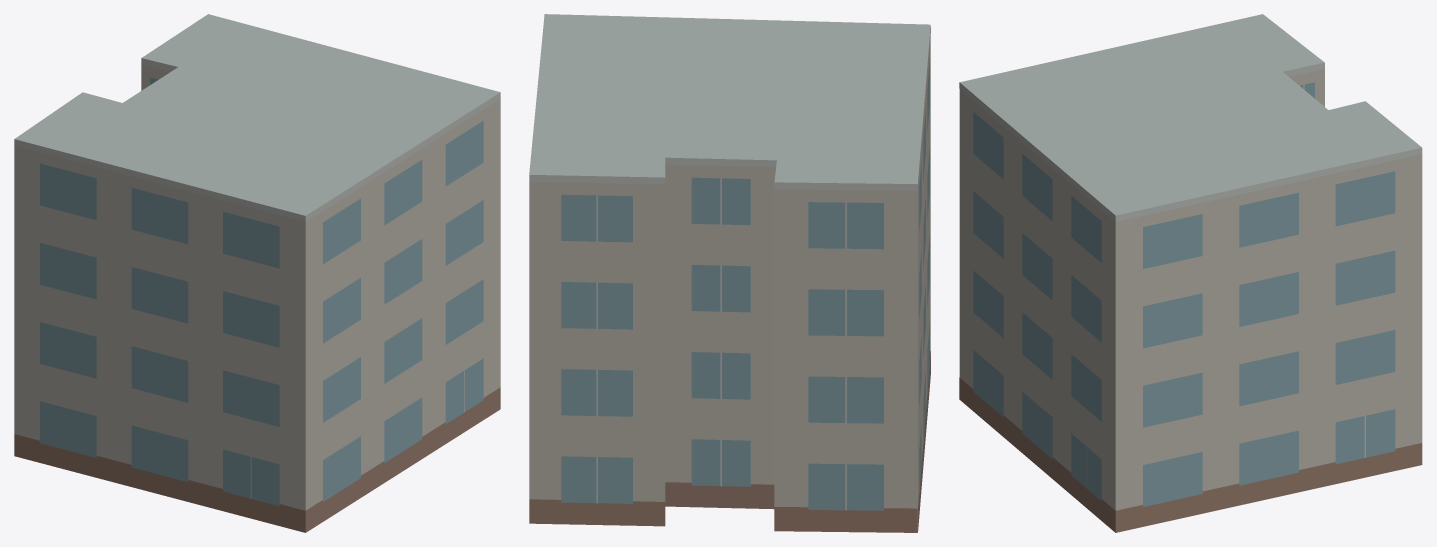
File: survey-upis-32933768.glb
The picture shows the model from 3 angles, left to right: view 1: azimuth 30°, elevation 25°; view 2: azimuth 150°, elevation 25°; view 3: azimuth 270°, elevation 25°; orthographic projection. The views are drawn at different scales.
Visible parts, largest first — view 1: survey-upis-32933768.tmp; view 2: survey-upis-32933768.tmp; view 3: survey-upis-32933768.tmp.
Part boxes in pixels (x1,y1,x2,y2): survey-upis-32933768.tmp: (14,14,500,532); survey-upis-32933768.tmp: (529,14,930,532); survey-upis-32933768.tmp: (959,14,1422,532).
Size of the model in its own units: 16.64 by 12.2 by 16.14.
